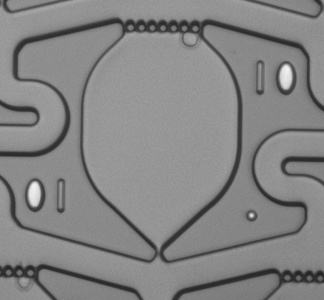AptNum: (243, 54, 305, 99)
Marker: (237, 202, 267, 229)
StNum: (14, 168, 76, 218)
